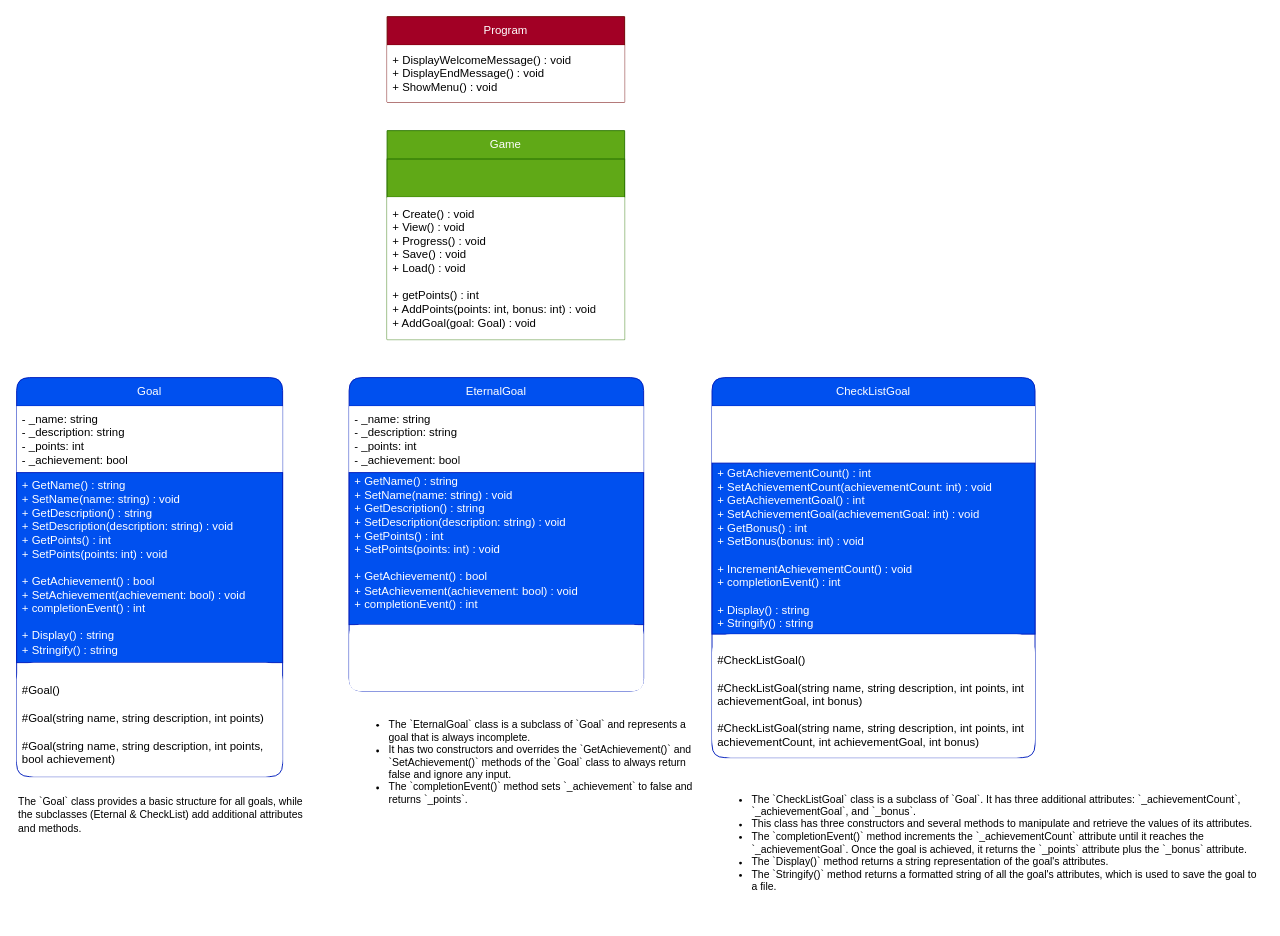
The diagram is 1280 pixels wide and 936 high, and some of its shapes have lost their labels. Each missing label, with the centre of its shape:
#EternalGoal() #EternalGoal(string name, string description, int points): the point at 496,657
- _achievementCount: int - _achievementGoal: int - _bonus: int: the point at 873,434
- _goals: List<Goal> - _points: int: the point at 505,177
